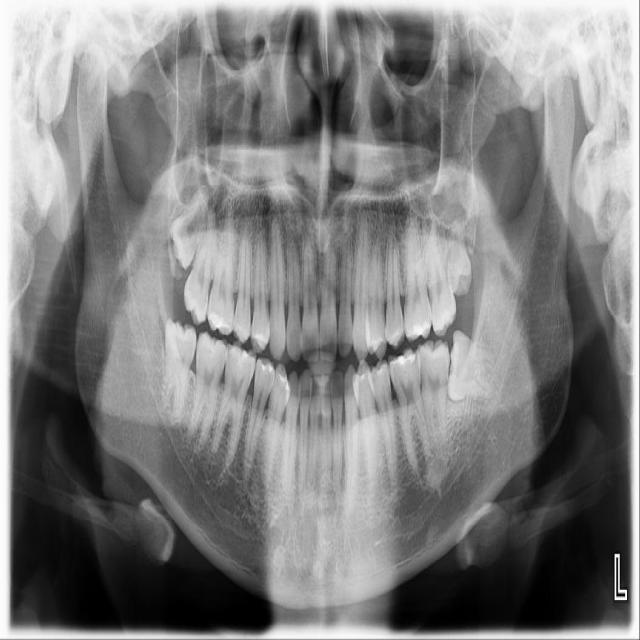Filling: (387, 345, 421, 398), (403, 297, 432, 343), (207, 289, 235, 335), (250, 310, 270, 355)
impacted tooth: (447, 215, 471, 295)
